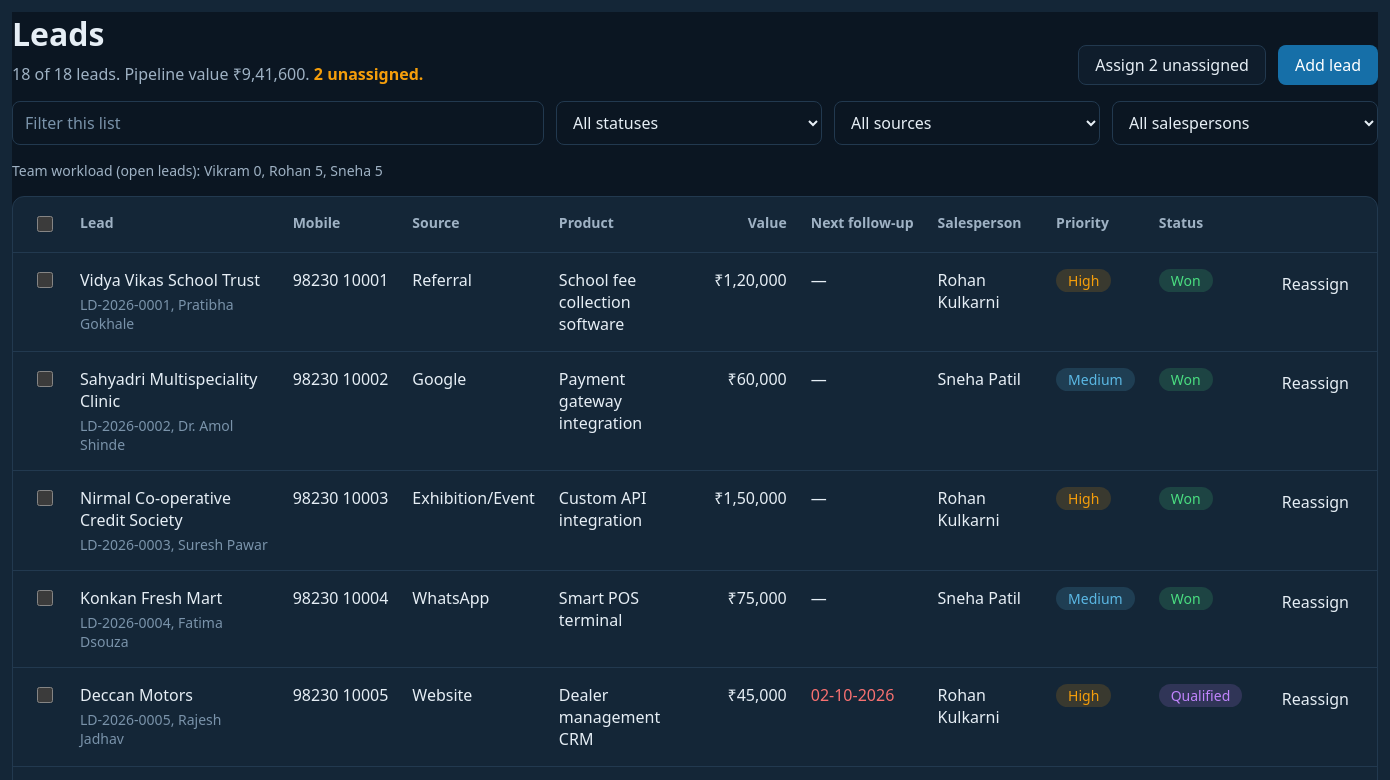
Test case: LeadsPanel › spreads unassigned leads across the team
The width and height of the screenshot is (1390, 780).
Click the button "Assign 2 unassigned" at (1172, 65), box [1078,45,1266,85]
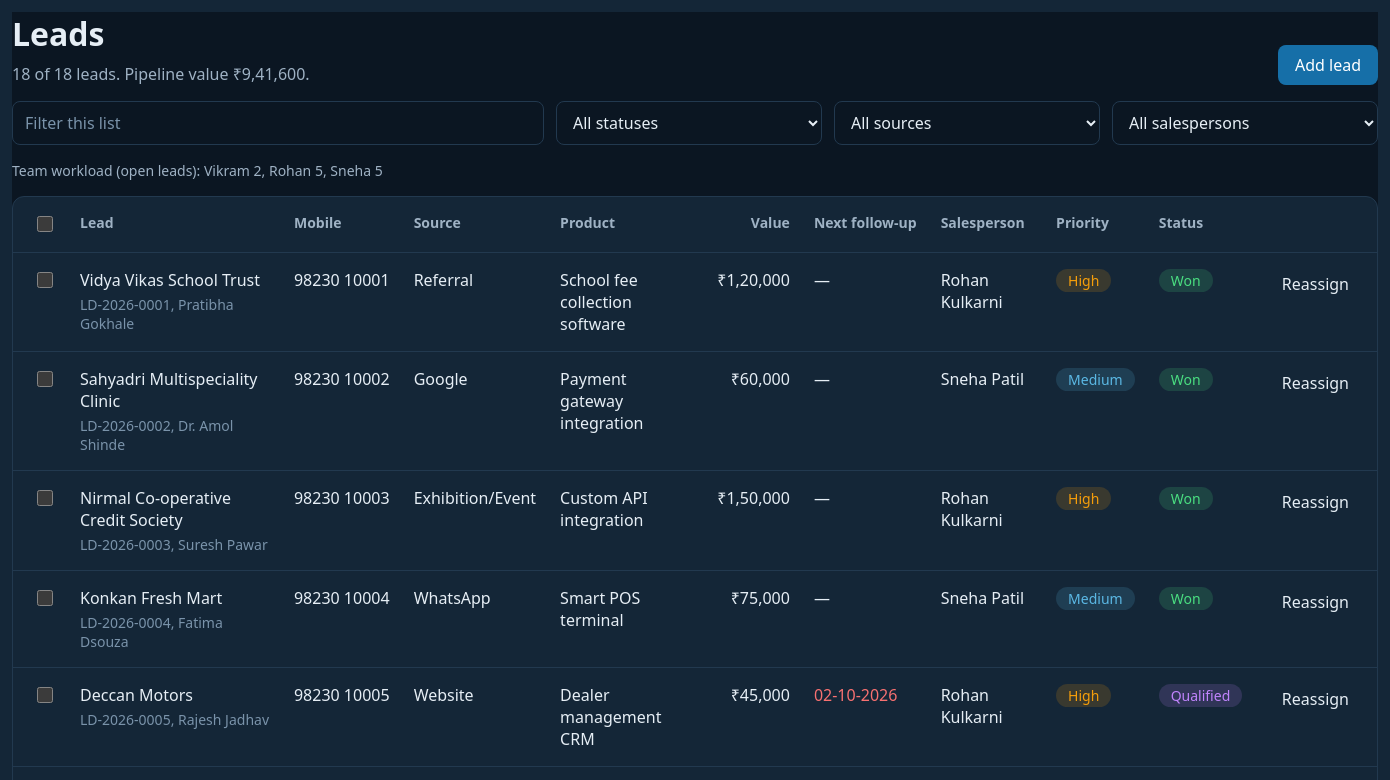
Expected: the button "unassigned" is gone
Expected: the text "Team workload (open leads): Vikram 2, Rohan 5, Sneha 5" is shown, [12,161,383,180]
